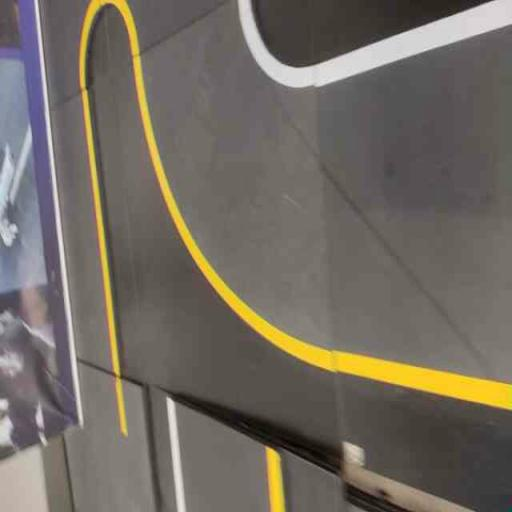straight: (327, 0, 511, 438)
